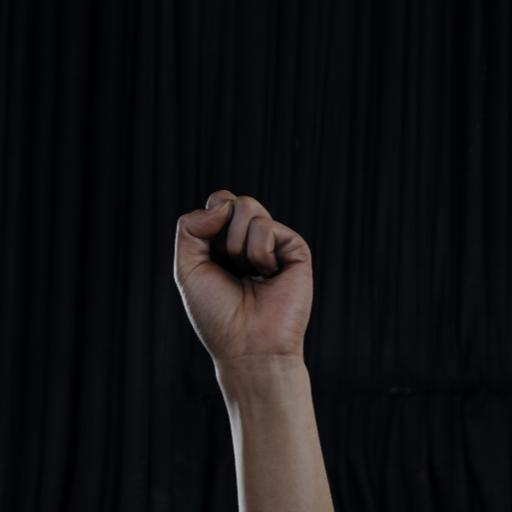S: (148, 157, 333, 373)
